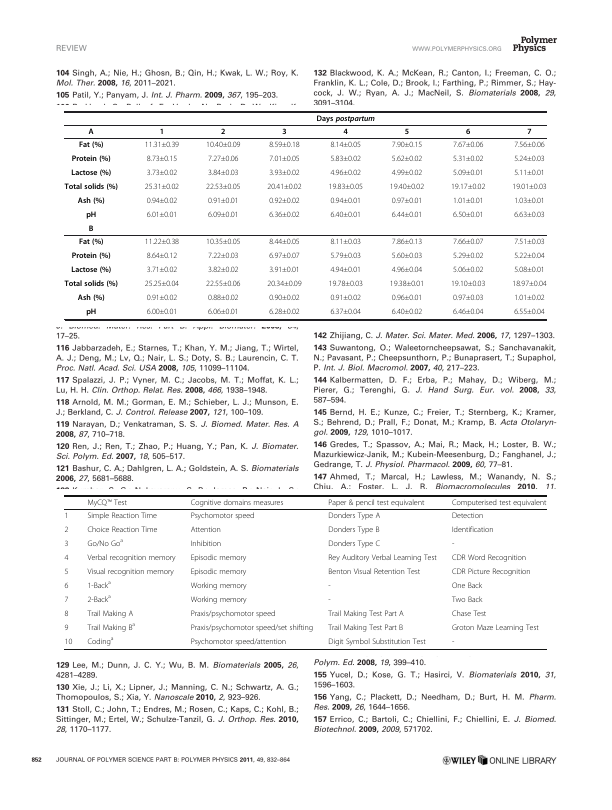borderless: (64, 110, 546, 319), (64, 494, 547, 649)
cell: (190, 623, 314, 633), (327, 553, 438, 563), (327, 637, 427, 647), (190, 637, 287, 647), (327, 567, 421, 577), (86, 553, 176, 563), (86, 567, 175, 577), (451, 623, 540, 633), (327, 498, 425, 507), (451, 498, 547, 507), (190, 609, 276, 619), (190, 498, 284, 507), (451, 567, 532, 577), (327, 609, 405, 619), (327, 623, 404, 633), (451, 553, 527, 563), (86, 511, 158, 521), (86, 525, 158, 535), (190, 511, 255, 521), (86, 621, 136, 633), (190, 581, 248, 591), (190, 595, 248, 605), (190, 553, 247, 563), (190, 567, 247, 577), (64, 182, 119, 192), (64, 279, 119, 289), (316, 114, 376, 123), (327, 511, 381, 521), (327, 539, 381, 549), (327, 525, 380, 535), (86, 609, 134, 619), (86, 537, 124, 549), (451, 525, 494, 535), (70, 168, 112, 178), (70, 265, 112, 275), (71, 154, 111, 164), (71, 251, 111, 261), (86, 498, 128, 507), (451, 609, 487, 619), (86, 635, 114, 647), (451, 511, 484, 521), (190, 525, 222, 535), (190, 539, 222, 549), (451, 581, 483, 591), (451, 595, 483, 605), (86, 579, 112, 591), (86, 593, 112, 605), (77, 196, 105, 206), (77, 293, 105, 303), (78, 140, 104, 150), (78, 237, 104, 247), (144, 141, 180, 148), (205, 141, 241, 148), (144, 183, 180, 190), (205, 183, 241, 190), (266, 183, 302, 190), (328, 183, 364, 190), (389, 183, 425, 190), (450, 183, 486, 190), (511, 183, 547, 190), (144, 238, 180, 245), (205, 238, 241, 245), (144, 280, 180, 287), (205, 280, 241, 287), (266, 280, 302, 287), (328, 280, 364, 287), (389, 280, 425, 287), (450, 280, 486, 287), (511, 280, 547, 287), (268, 141, 301, 148), (329, 141, 362, 148), (513, 141, 546, 148), (268, 155, 301, 162), (329, 155, 362, 162), (513, 155, 546, 162), (268, 169, 301, 176), (329, 169, 362, 176), (513, 169, 546, 176), (268, 197, 301, 204), (329, 197, 362, 204), (513, 197, 546, 204), (268, 211, 301, 218), (329, 211, 362, 218), (513, 211, 546, 218), (268, 238, 301, 245), (329, 238, 362, 245), (513, 238, 546, 245), (268, 252, 301, 259), (329, 252, 362, 259), (513, 252, 546, 259), (268, 266, 301, 273), (329, 266, 362, 273), (513, 266, 546, 273), (268, 294, 301, 301), (329, 294, 362, 301), (513, 294, 546, 301), (268, 308, 301, 315), (329, 308, 362, 315), (513, 308, 546, 315), (391, 141, 423, 148), (452, 141, 484, 148), (146, 155, 178, 162), (207, 155, 239, 162), (391, 155, 423, 162), (452, 155, 484, 162), (146, 169, 178, 176), (207, 169, 239, 176), (391, 169, 423, 176), (452, 169, 484, 176), (146, 197, 178, 204), (207, 197, 239, 204), (391, 197, 423, 204), (452, 197, 484, 204), (146, 211, 178, 218), (207, 211, 239, 218), (391, 211, 423, 218), (452, 211, 484, 218), (391, 238, 423, 245), (452, 238, 484, 245), (146, 252, 178, 259), (207, 252, 239, 259), (391, 252, 423, 259), (452, 252, 484, 259), (146, 266, 178, 273), (207, 266, 239, 273), (391, 266, 423, 273), (452, 266, 484, 273), (146, 294, 178, 301), (207, 294, 239, 301), (391, 294, 423, 301), (452, 294, 484, 301), (146, 308, 178, 315), (207, 308, 239, 315), (391, 308, 423, 315), (452, 308, 484, 315), (85, 210, 97, 220), (85, 307, 97, 317), (64, 637, 73, 647), (88, 127, 95, 137), (342, 127, 349, 137), (159, 127, 165, 137), (220, 127, 226, 137), (281, 127, 287, 137), (404, 127, 410, 137), (465, 127, 471, 137), (526, 127, 532, 137), (88, 224, 94, 234), (63, 511, 69, 521), (63, 525, 69, 535), (63, 539, 69, 549), (64, 553, 69, 563), (64, 567, 69, 577), (64, 581, 69, 591), (327, 581, 332, 591), (64, 595, 69, 605), (327, 595, 332, 605), (64, 609, 69, 619), (64, 623, 69, 633), (451, 539, 455, 549), (451, 637, 455, 647)
